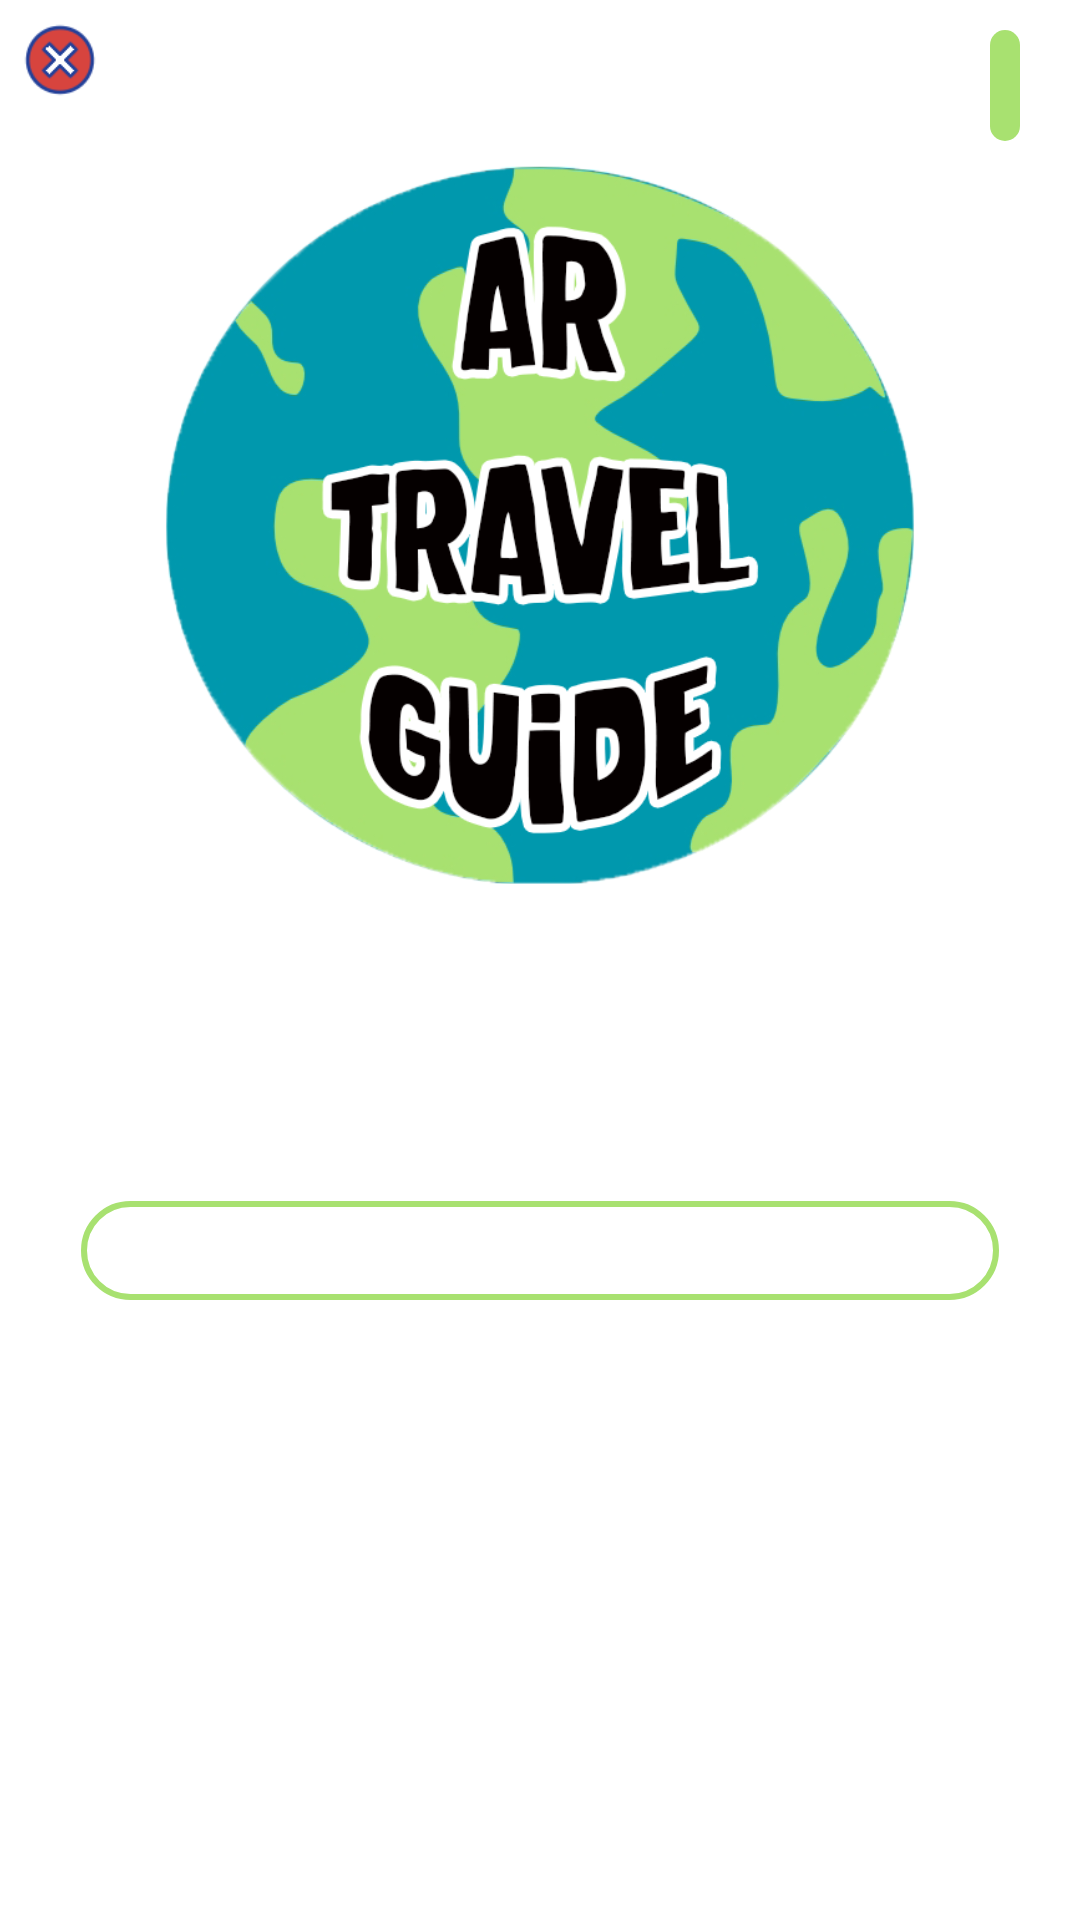

Icon bounding boxes for this 1080px×1920px phone screenshot, format (x1, y1, x2, y2):
close: (25, 25, 95, 95)
